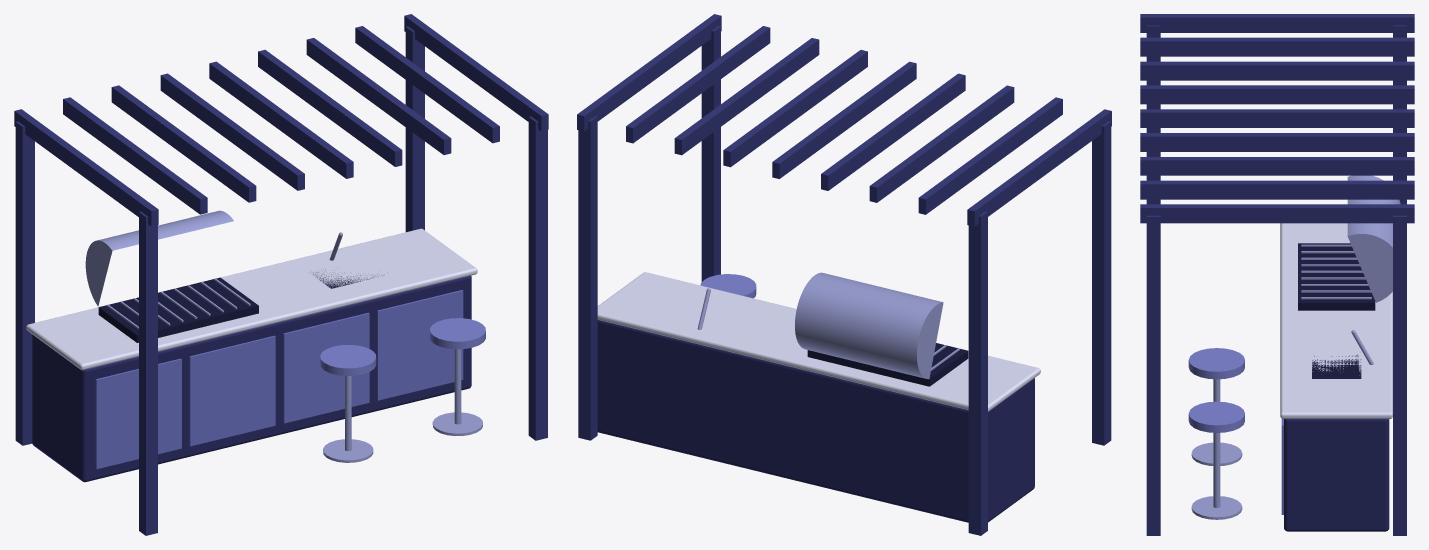
The model's file is outdoorKitchen.glb.
The picture shows the model from 3 angles, left to right: view 1: azimuth 30°, elevation 25°; view 2: azimuth 150°, elevation 25°; view 3: azimuth 270°, elevation 25°; orthographic projection.
Visible parts, largest first — view 1: pergola, outdoorKitchen, counter, top, stool (×2), grill, lid; view 2: pergola, counter, top, lid, grill, stool; view 3: pergola, top, counter, stool (×2), grill, lid, sink.
Boxes of the visible parts, bbox=[...] form: pergola: bbox=[14, 14, 548, 535]; outdoorKitchen: bbox=[95, 290, 463, 469]; counter: bbox=[32, 275, 471, 482]; top: bbox=[26, 228, 477, 370]; stool (×2): bbox=[320, 318, 485, 462]; grill: bbox=[98, 277, 258, 342]; lid: bbox=[85, 210, 233, 306]; pergola: bbox=[577, 14, 1111, 535]; counter: bbox=[597, 320, 1034, 522]; top: bbox=[597, 272, 1040, 411]; lid: bbox=[795, 272, 943, 379]; grill: bbox=[807, 343, 968, 386]; stool: bbox=[700, 274, 756, 298]; pergola: bbox=[1140, 14, 1414, 535]; top: bbox=[1280, 223, 1392, 418]; counter: bbox=[1284, 419, 1389, 531]; stool (×2): bbox=[1188, 348, 1244, 519]; grill: bbox=[1298, 243, 1375, 310]; lid: bbox=[1347, 175, 1400, 302]; sink: bbox=[1312, 354, 1361, 378].
Size of the model in its own units: 3.3 by 2.56 by 1.95.
